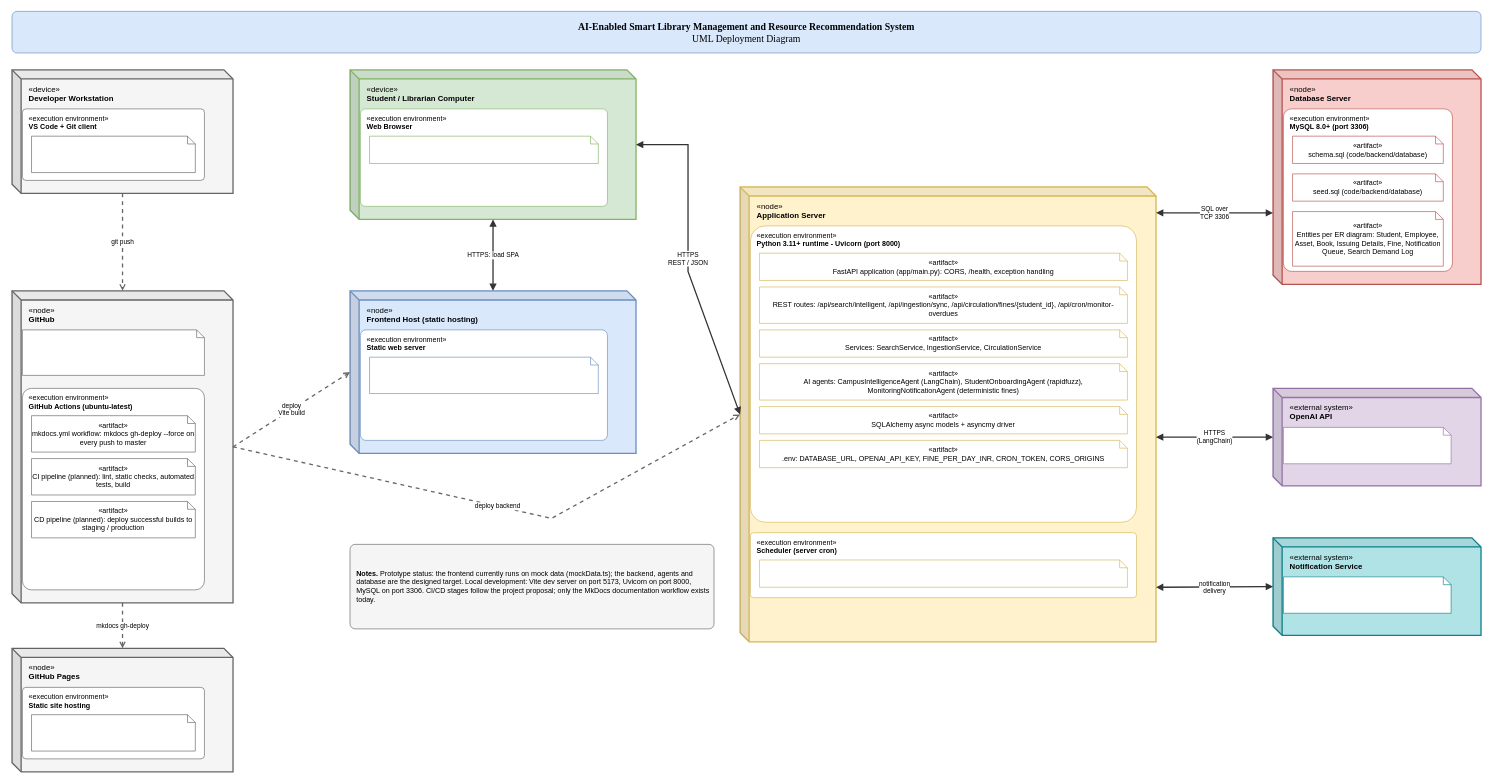
Image size: 1492x784. Some labels were removed from this diagram. Here are the shapes that lost their labels. From the top down, the centre of each, then its label:
At [113,154]: "«artifact» Project source: code/frontend, code/backend, docs/".
At [483,149]: "«artifact» React SPA (index.html + JS / CSS bundle)".
At [113,352]: "«artifact» Repository SE_AI-EnabledSmartLibraryManagementSystem (branch master)".
At [483,375]: "«artifact» dist/ - Vite production build (React + TypeScript + Tailwind CSS)".
At [1367,445]: "«artifact» ChatOpenAI (gpt-4o-mini), structured output".
At [943,573]: "«artifact» Daily job: POST /api/cron/monitor-overdues with X-Cron-Token".
At [1367,594]: "«artifact» Overdue notification delivery and status updates".
At [113,732]: "«artifact» MkDocs documentation site (gh-pages branch)".
